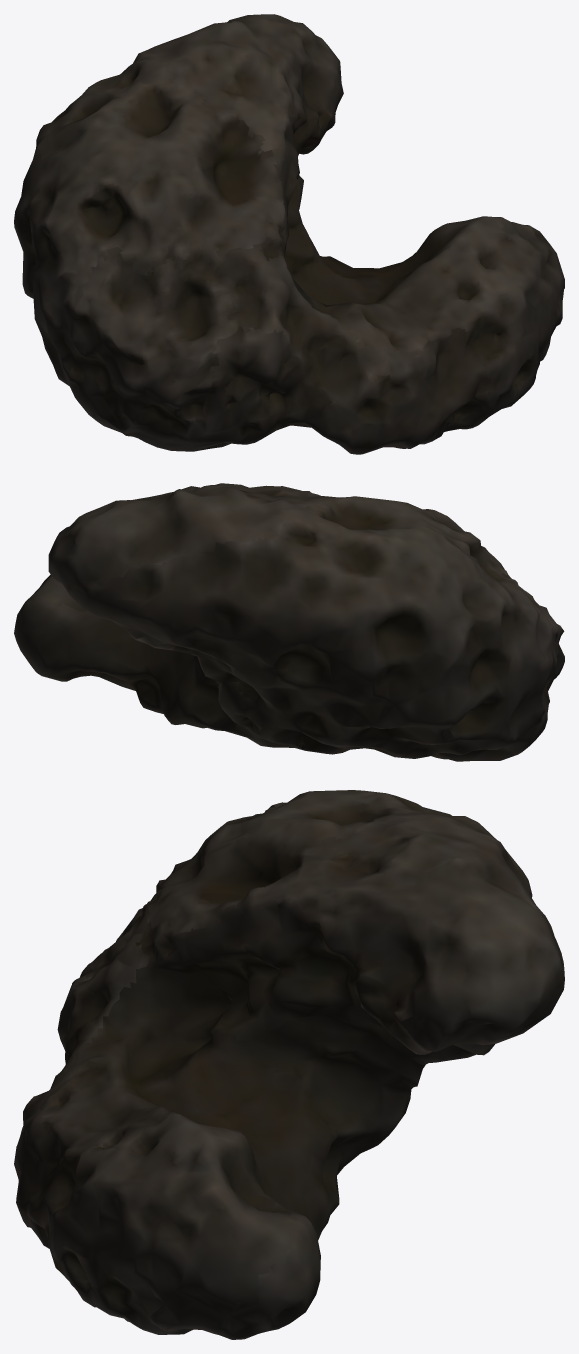
Rendered from asteroid_rare_2_lod2.glb.
The picture shows the model from 3 angles, top to bottom: view 1: azimuth 30°, elevation 25°; view 2: azimuth 150°, elevation 25°; view 3: azimuth 270°, elevation 25°; orthographic projection. The views are drawn at different scales.
Parts seen in each view (by area): view 1: model; view 2: model; view 3: model.
Part boxes in pixels (x1,y1,x2,y2): model: [14, 14, 564, 454]; model: [14, 483, 564, 761]; model: [14, 790, 564, 1339].
Bounding box in the file's own units: 1.9 × 1.15 × 1.45.
1 material, 1 textured.
